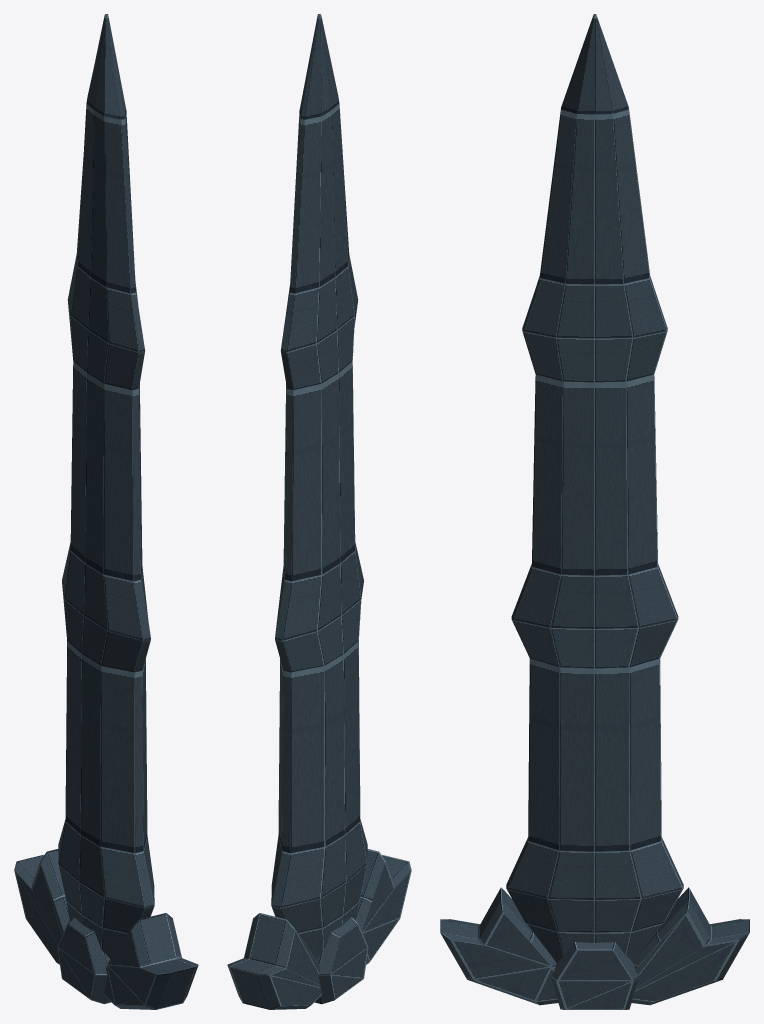
The model's file is workpiece_chilian_lihuo_sword_quenched.obj.
The picture shows the model from 3 angles, left to right: view 1: azimuth 30°, elevation 25°; view 2: azimuth 150°, elevation 25°; view 3: azimuth 270°, elevation 25°; orthographic projection.
Parts seen in each view (by area): view 1: geometry; view 2: geometry; view 3: geometry.
Boxes of the visible parts, bbox=[...] form: geometry: bbox=[14, 14, 198, 1009]; geometry: bbox=[227, 14, 411, 1009]; geometry: bbox=[440, 14, 749, 1009].
Size of the model in its own units: 0.0825 by 1.28 by 0.365.
